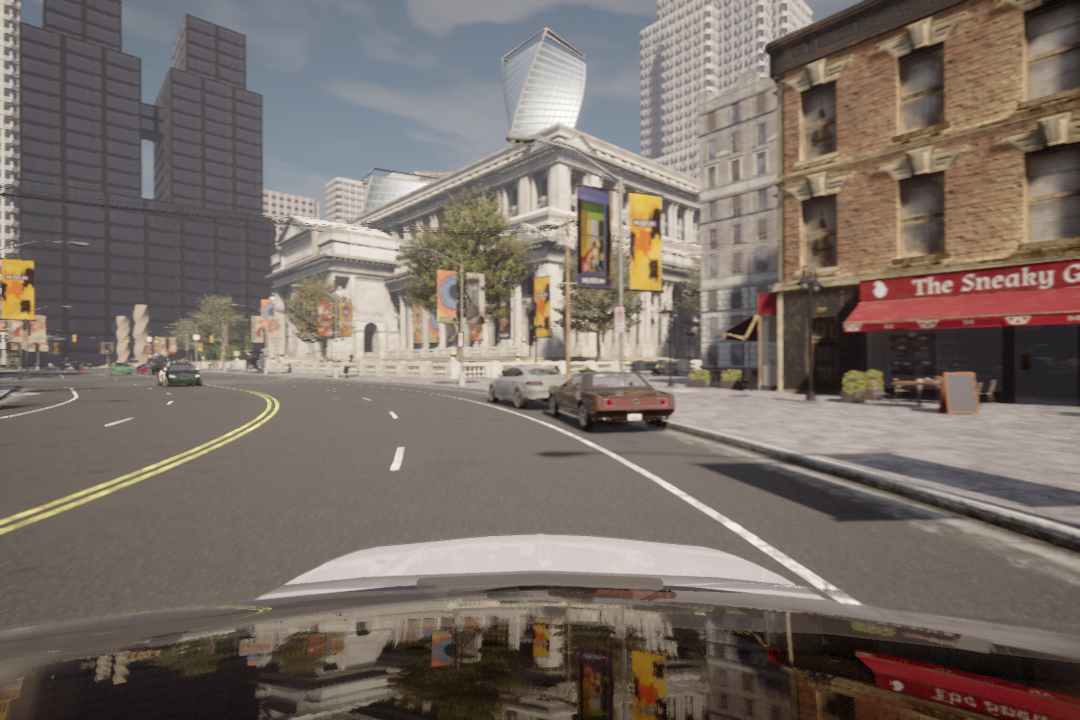TrafficSign_nstop: (613, 307, 624, 334)
